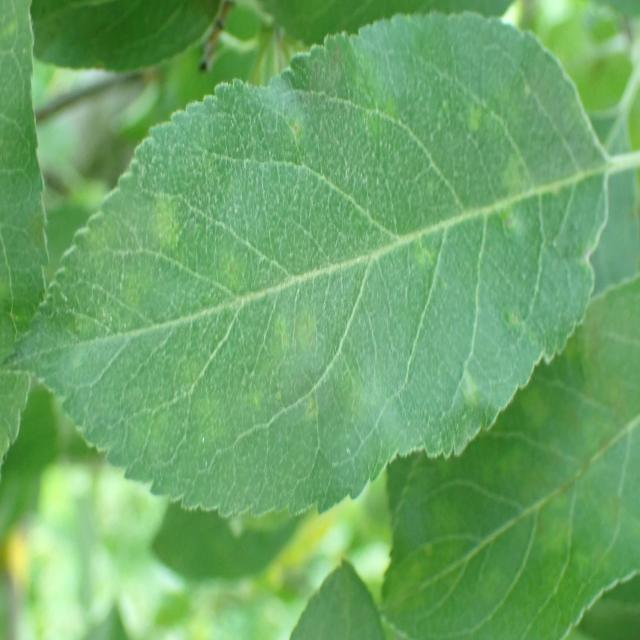scab: (49, 24, 592, 441)
